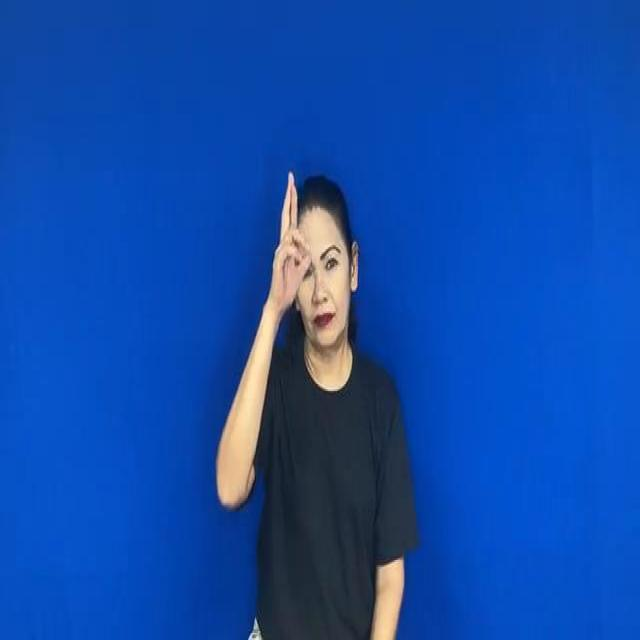chicken: (268, 164, 308, 309)
